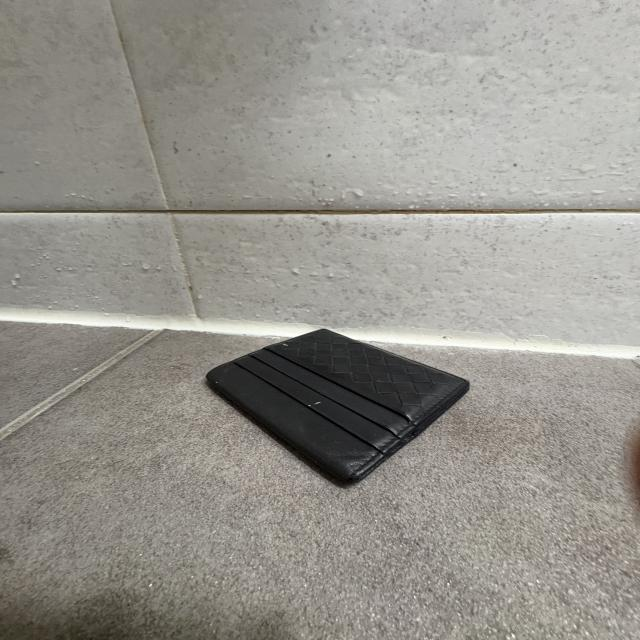wallet: (203, 328, 470, 488)
